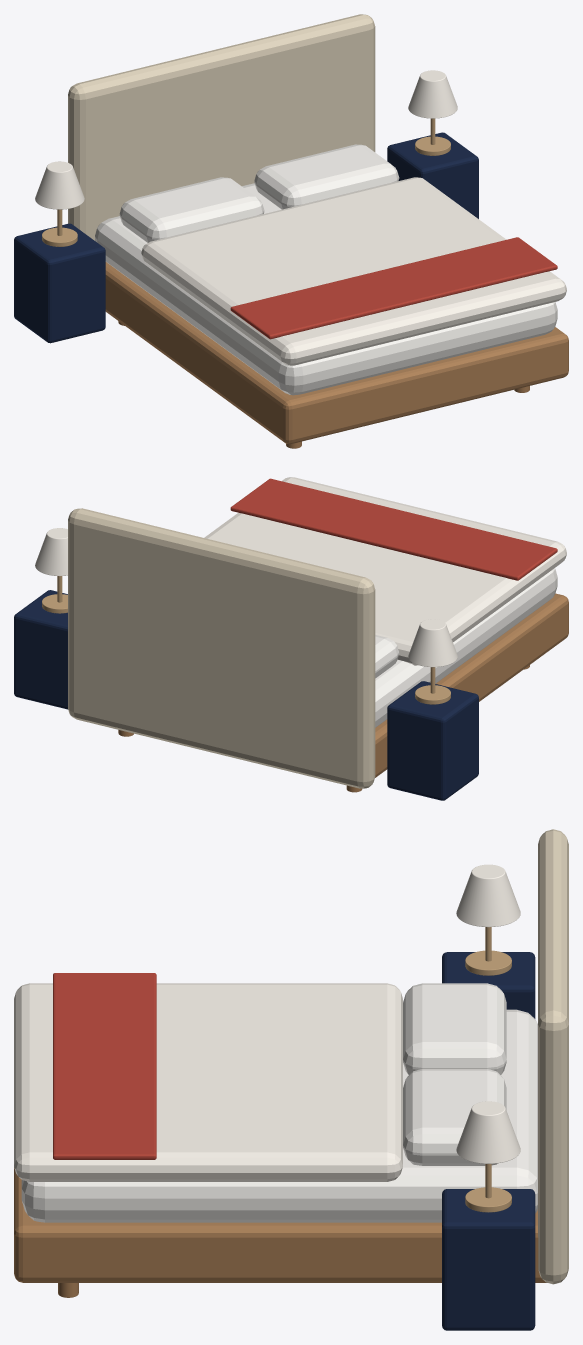
Rendered from 06_bedroom.glb.
3 renders of one model, top to bottom at view 1: azimuth 30°, elevation 25°; view 2: azimuth 150°, elevation 25°; view 3: azimuth 270°, elevation 25°, orthographic. The views are drawn at different scales.
Visible parts, largest first — view 1: Upholstered_Headboard, Duvet, Bed_Base, Mattress, Bed_Runner, Nightstand, Pillow, Pillow.001, Nightstand.001, Lamp_Shade.001, Lamp_Shade, Lamp_Base (+1 smaller); view 2: Upholstered_Headboard, Duvet, Bed_Runner, Nightstand, Bed_Base, Nightstand.001, Mattress, Lamp_Shade, Lamp_Shade.001, Pillow, Lamp_Base, Lamp_Base.001; view 3: Duvet, Bed_Base, Mattress, Bed_Runner, Upholstered_Headboard, Nightstand.001, Pillow, Pillow.001, Lamp_Shade, Lamp_Shade.001, Nightstand, Lamp_Base.001 (+1 smaller).
Boxes of the visible parts, x1,y1,x2,y2 form: Upholstered_Headboard: (68, 14, 375, 240); Duvet: (141, 177, 566, 365); Bed_Base: (105, 262, 568, 444); Mattress: (95, 183, 557, 395); Bed_Runner: (230, 237, 557, 339); Nightstand: (14, 223, 105, 343); Pillow: (119, 177, 264, 242); Pillow.001: (254, 144, 399, 209); Nightstand.001: (387, 132, 478, 218); Lamp_Shade.001: (408, 70, 457, 118); Lamp_Shade: (35, 161, 84, 209); Lamp_Base: (42, 227, 77, 246); Upholstered_Headboard: (68, 508, 375, 788); Duvet: (204, 477, 566, 665); Bed_Runner: (230, 478, 557, 580); Nightstand: (387, 681, 478, 800); Bed_Base: (375, 593, 568, 777); Nightstand.001: (14, 590, 68, 709); Mattress: (375, 568, 557, 727); Lamp_Shade: (408, 619, 457, 667); Lamp_Shade.001: (35, 528, 67, 576); Pillow: (375, 635, 399, 678); Lamp_Base: (415, 685, 450, 704); Lamp_Base.001: (42, 594, 67, 613); Duvet: (14, 983, 402, 1181); Bed_Base: (14, 1167, 546, 1282); Mattress: (21, 1009, 537, 1222); Bed_Runner: (53, 973, 156, 1159); Upholstered_Headboard: (538, 829, 568, 1284); Nightstand.001: (442, 1189, 535, 1330); Pillow: (403, 983, 506, 1074); Pillow.001: (403, 1069, 506, 1165); Lamp_Shade: (456, 864, 520, 927); Lamp_Shade.001: (456, 1101, 520, 1163); Nightstand: (442, 952, 535, 1018); Lamp_Base.001: (465, 1187, 511, 1212).
Size of the model in its own units: 2.5 by 1.28 by 2.14.
